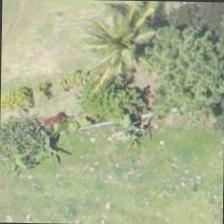Kelapa_Sawit: (78, 0, 170, 88)
